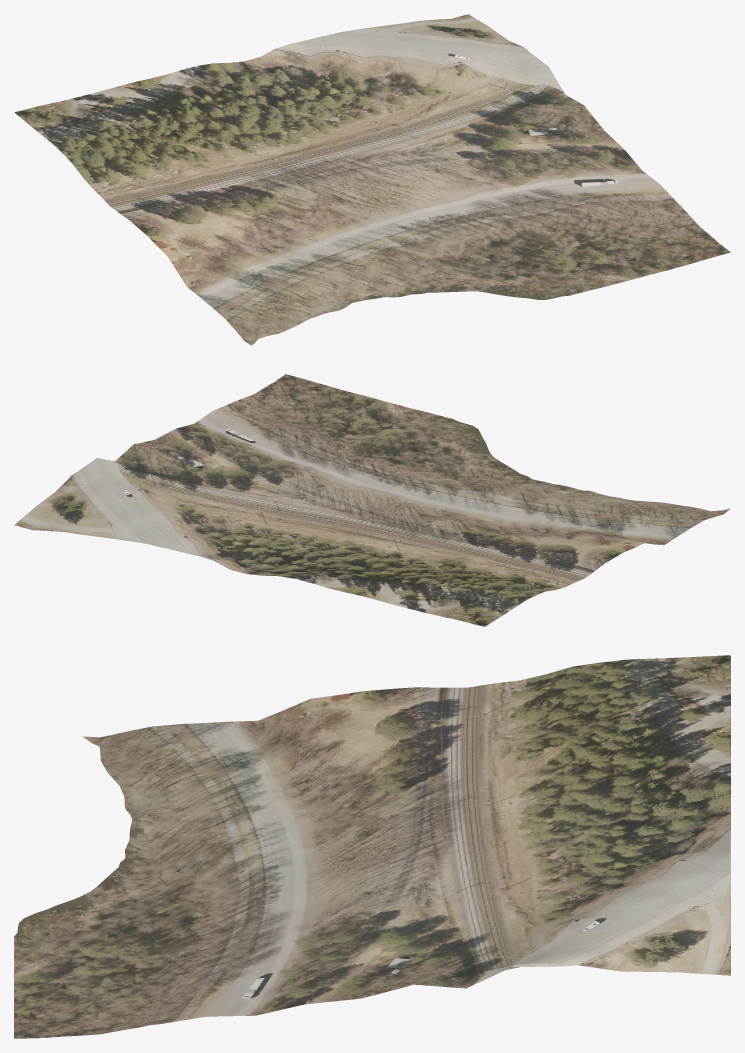
File: CM_Terrain_24490254_6819794.fbx
The picture shows the model from 3 angles, top to bottom: view 1: azimuth 30°, elevation 25°; view 2: azimuth 150°, elevation 25°; view 3: azimuth 270°, elevation 25°; orthographic projection. The views are drawn at different scales.
Parts seen in each view (by area): view 1: CM_Terrain_24490254_6819794_LOD0; view 2: CM_Terrain_24490254_6819794_LOD0; view 3: CM_Terrain_24490254_6819794_LOD0.
Part boxes in pixels (x1,y1,x2,y2): CM_Terrain_24490254_6819794_LOD0: (14, 14, 730, 345); CM_Terrain_24490254_6819794_LOD0: (14, 374, 730, 626); CM_Terrain_24490254_6819794_LOD0: (14, 655, 730, 1038).
Size of what is drawn, in the model's own units: 205 by 27.96 by 205.
